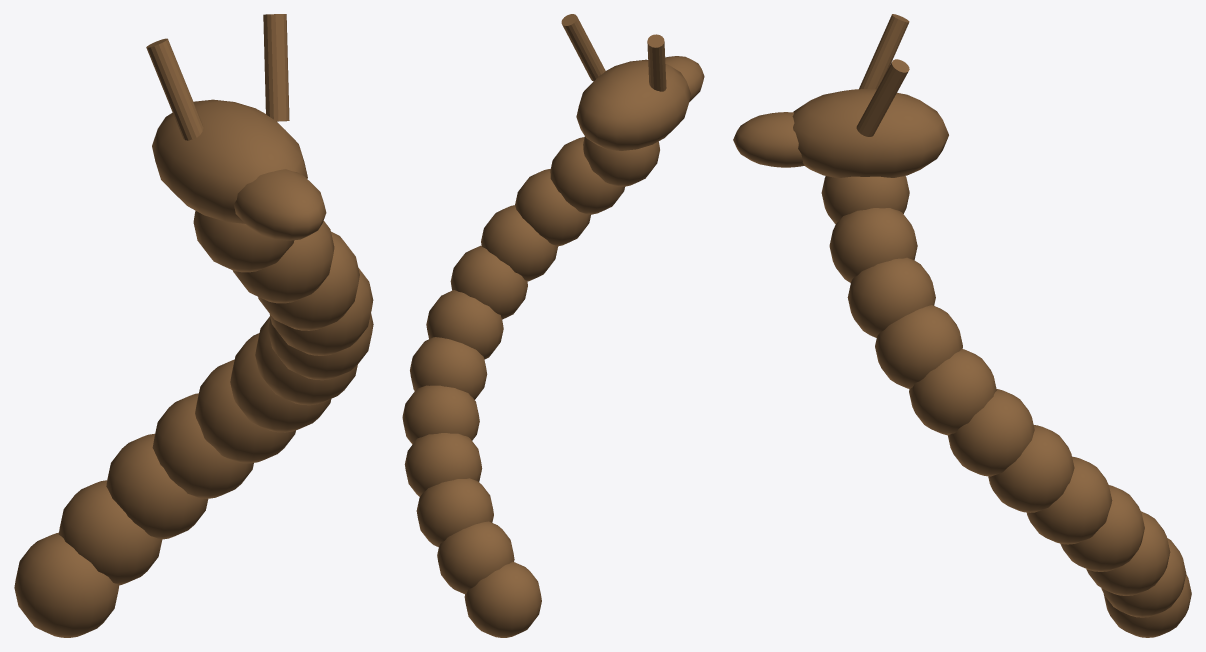
The model's file is Hashirama_Skill1.fbx.
3 views of the same model, side by side, from view 1: azimuth 30°, elevation 25°; view 2: azimuth 150°, elevation 25°; view 3: azimuth 270°, elevation 25° (orthographic). The views are drawn at different scales.
Visible parts, largest first — view 1: DragonHead, WoodDragonSegment, WoodDragonSegment.001, WoodDragonSegment.002, WoodDragonSegment.003, Snout, WoodDragonSegment.004, WoodDragonSegment.010, WoodDragonSegment.009, WoodDragonSegment.005, WoodDragonSegment.011, WoodDragonSegment.008 (+4 smaller); view 2: DragonHead, WoodDragonSegment, WoodDragonSegment.001, WoodDragonSegment.002, WoodDragonSegment.003, WoodDragonSegment.004, WoodDragonSegment.007, WoodDragonSegment.006, WoodDragonSegment.005, WoodDragonSegment.008, WoodDragonSegment.009, WoodDragonSegment.010 (+4 smaller); view 3: DragonHead, WoodDragonSegment.007, WoodDragonSegment.008, WoodDragonSegment.006, WoodDragonSegment.009, WoodDragonSegment.005, WoodDragonSegment.010, WoodDragonSegment.004, WoodDragonSegment.003, WoodDragonSegment.011, WoodDragonSegment.002, Snout (+4 smaller).
Part boxes in pixels (x1,y1,x2,y2): DragonHead: [152, 99, 307, 223]; WoodDragonSegment: [14, 532, 119, 637]; WoodDragonSegment.001: [58, 480, 162, 585]; WoodDragonSegment.002: [106, 433, 208, 539]; WoodDragonSegment.003: [152, 393, 253, 498]; Snout: [234, 169, 326, 240]; WoodDragonSegment.004: [195, 359, 295, 463]; WoodDragonSegment.010: [233, 221, 334, 303]; WoodDragonSegment.009: [258, 231, 359, 330]; WoodDragonSegment.005: [230, 333, 331, 432]; WoodDragonSegment.011: [193, 210, 294, 272]; WoodDragonSegment.008: [269, 268, 373, 355]; DragonHead: [576, 59, 690, 150]; WoodDragonSegment: [464, 561, 541, 637]; WoodDragonSegment.001: [437, 521, 514, 593]; WoodDragonSegment.002: [416, 478, 493, 547]; WoodDragonSegment.003: [404, 433, 482, 496]; WoodDragonSegment.004: [402, 385, 479, 444]; WoodDragonSegment.007: [450, 245, 527, 319]; WoodDragonSegment.006: [426, 290, 503, 359]; WoodDragonSegment.005: [410, 337, 487, 399]; WoodDragonSegment.008: [481, 205, 558, 281]; WoodDragonSegment.009: [515, 169, 590, 246]; WoodDragonSegment.010: [550, 137, 624, 214]; DragonHead: [792, 89, 948, 177]; WoodDragonSegment.007: [909, 349, 996, 435]; WoodDragonSegment.008: [875, 305, 962, 388]; WoodDragonSegment.006: [948, 389, 1034, 476]; WoodDragonSegment.009: [847, 257, 935, 337]; WoodDragonSegment.005: [988, 425, 1074, 512]; WoodDragonSegment.010: [829, 208, 917, 282]; WoodDragonSegment.004: [1027, 456, 1112, 544]; WoodDragonSegment.003: [1060, 485, 1144, 571]; WoodDragonSegment.011: [821, 176, 909, 224]; WoodDragonSegment.002: [1086, 511, 1170, 595]; Snout: [733, 112, 804, 167].
Size of the model in its own units: 142 by 372 by 260.
